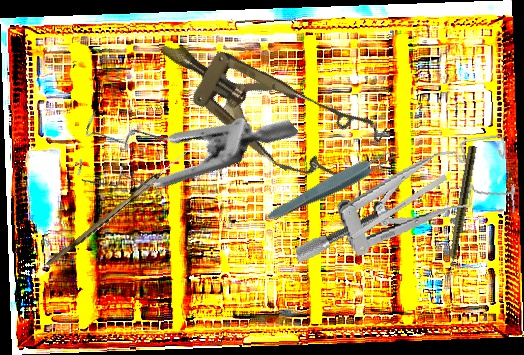Handpiece: (443, 145, 478, 280)
Hook Surgical: (329, 174, 448, 254)
Speculum: (53, 19, 300, 259), (140, 9, 389, 205), (282, 132, 522, 266)
Surgical Spoon: (45, 138, 201, 271)
Tissue Forceps: (263, 142, 405, 227)
